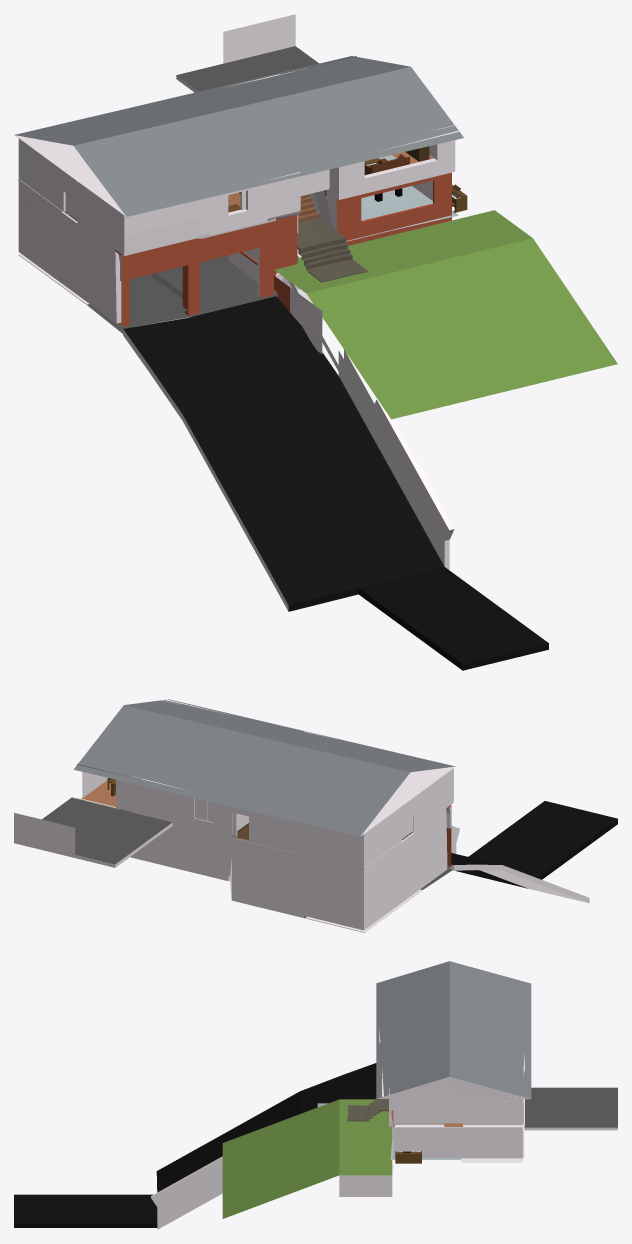
Rendered from house.glb.
3 renders of one model, top to bottom at view 1: azimuth 30°, elevation 25°; view 2: azimuth 150°, elevation 25°; view 3: azimuth 270°, elevation 25°, orthographic. The views are drawn at different scales.
Parts seen in each view (by area): view 1: Room.002, Room.009, Room.010, Room.005, Room.003, Stairs, Room.006; view 2: Room.002, Room.009, Room.003, Room.001; view 3: Room.002, Room.010, Room.009, Room.003, Stairs.
Part boxes in pixels (x1,y1,x2,y2): Room.002: (14,14,463,611); Room.009: (123,296,548,670); Room.010: (274,210,617,419); Room.005: (115,172,451,326); Room.003: (87,46,318,332); Stairs: (297,168,367,282); Room.006: (346,155,458,241); Room.002: (14,699,589,932); Room.009: (451,801,617,888); Room.003: (42,797,452,917); Room.001: (72,780,413,840); Room.002: (151,961,617,1229); Room.010: (222,1099,392,1218); Room.009: (14,1063,376,1227); Room.003: (524,1087,617,1127); Stairs: (347,1099,388,1121).
Size of the model in its own units: 48.56 by 37.94 by 97.19.
Materials: 29 (3 with a texture image).
